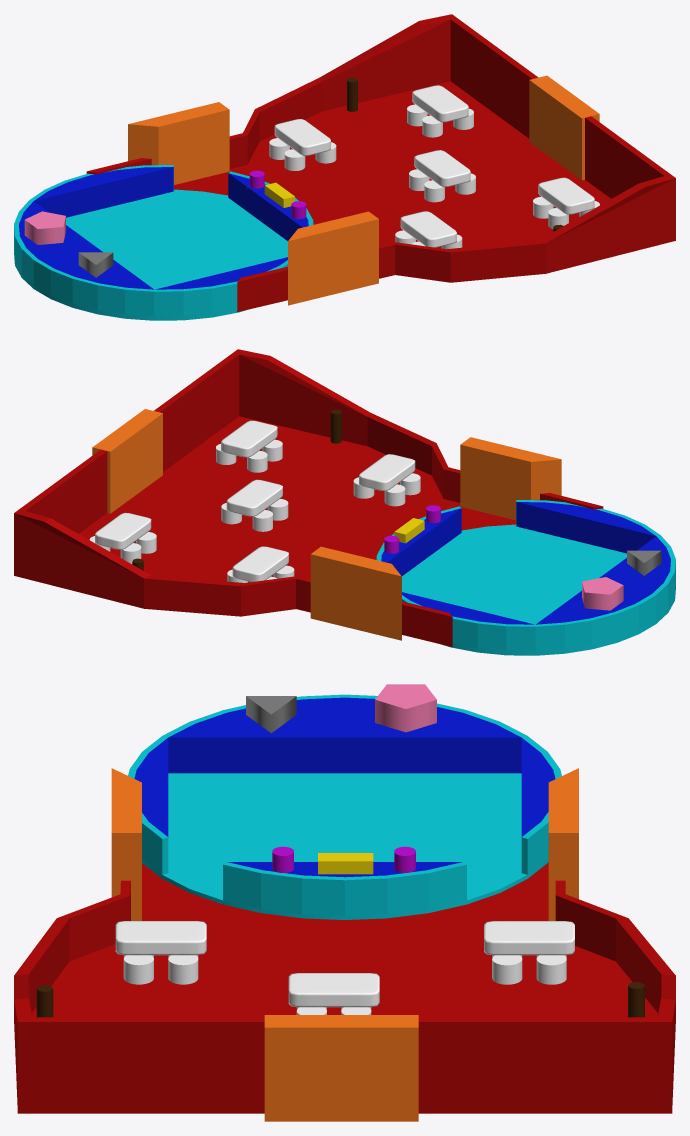
The model's file is 3d map layout.fbx.
3 renders of one model, top to bottom at view 1: azimuth 30°, elevation 25°; view 2: azimuth 150°, elevation 25°; view 3: azimuth 270°, elevation 25°, orthographic. The views are drawn at different scales.
Visible parts, largest first — view 1: Cylinder002; view 2: Cylinder002; view 3: Cylinder002.
Boxes of the visible parts, box(x1,y1,x2,y2) form: Cylinder002: box(14, 14, 675, 320); Cylinder002: box(14, 349, 675, 655); Cylinder002: box(14, 684, 675, 1121).
Size of the model in its own units: 607 by 69.33 by 443.
